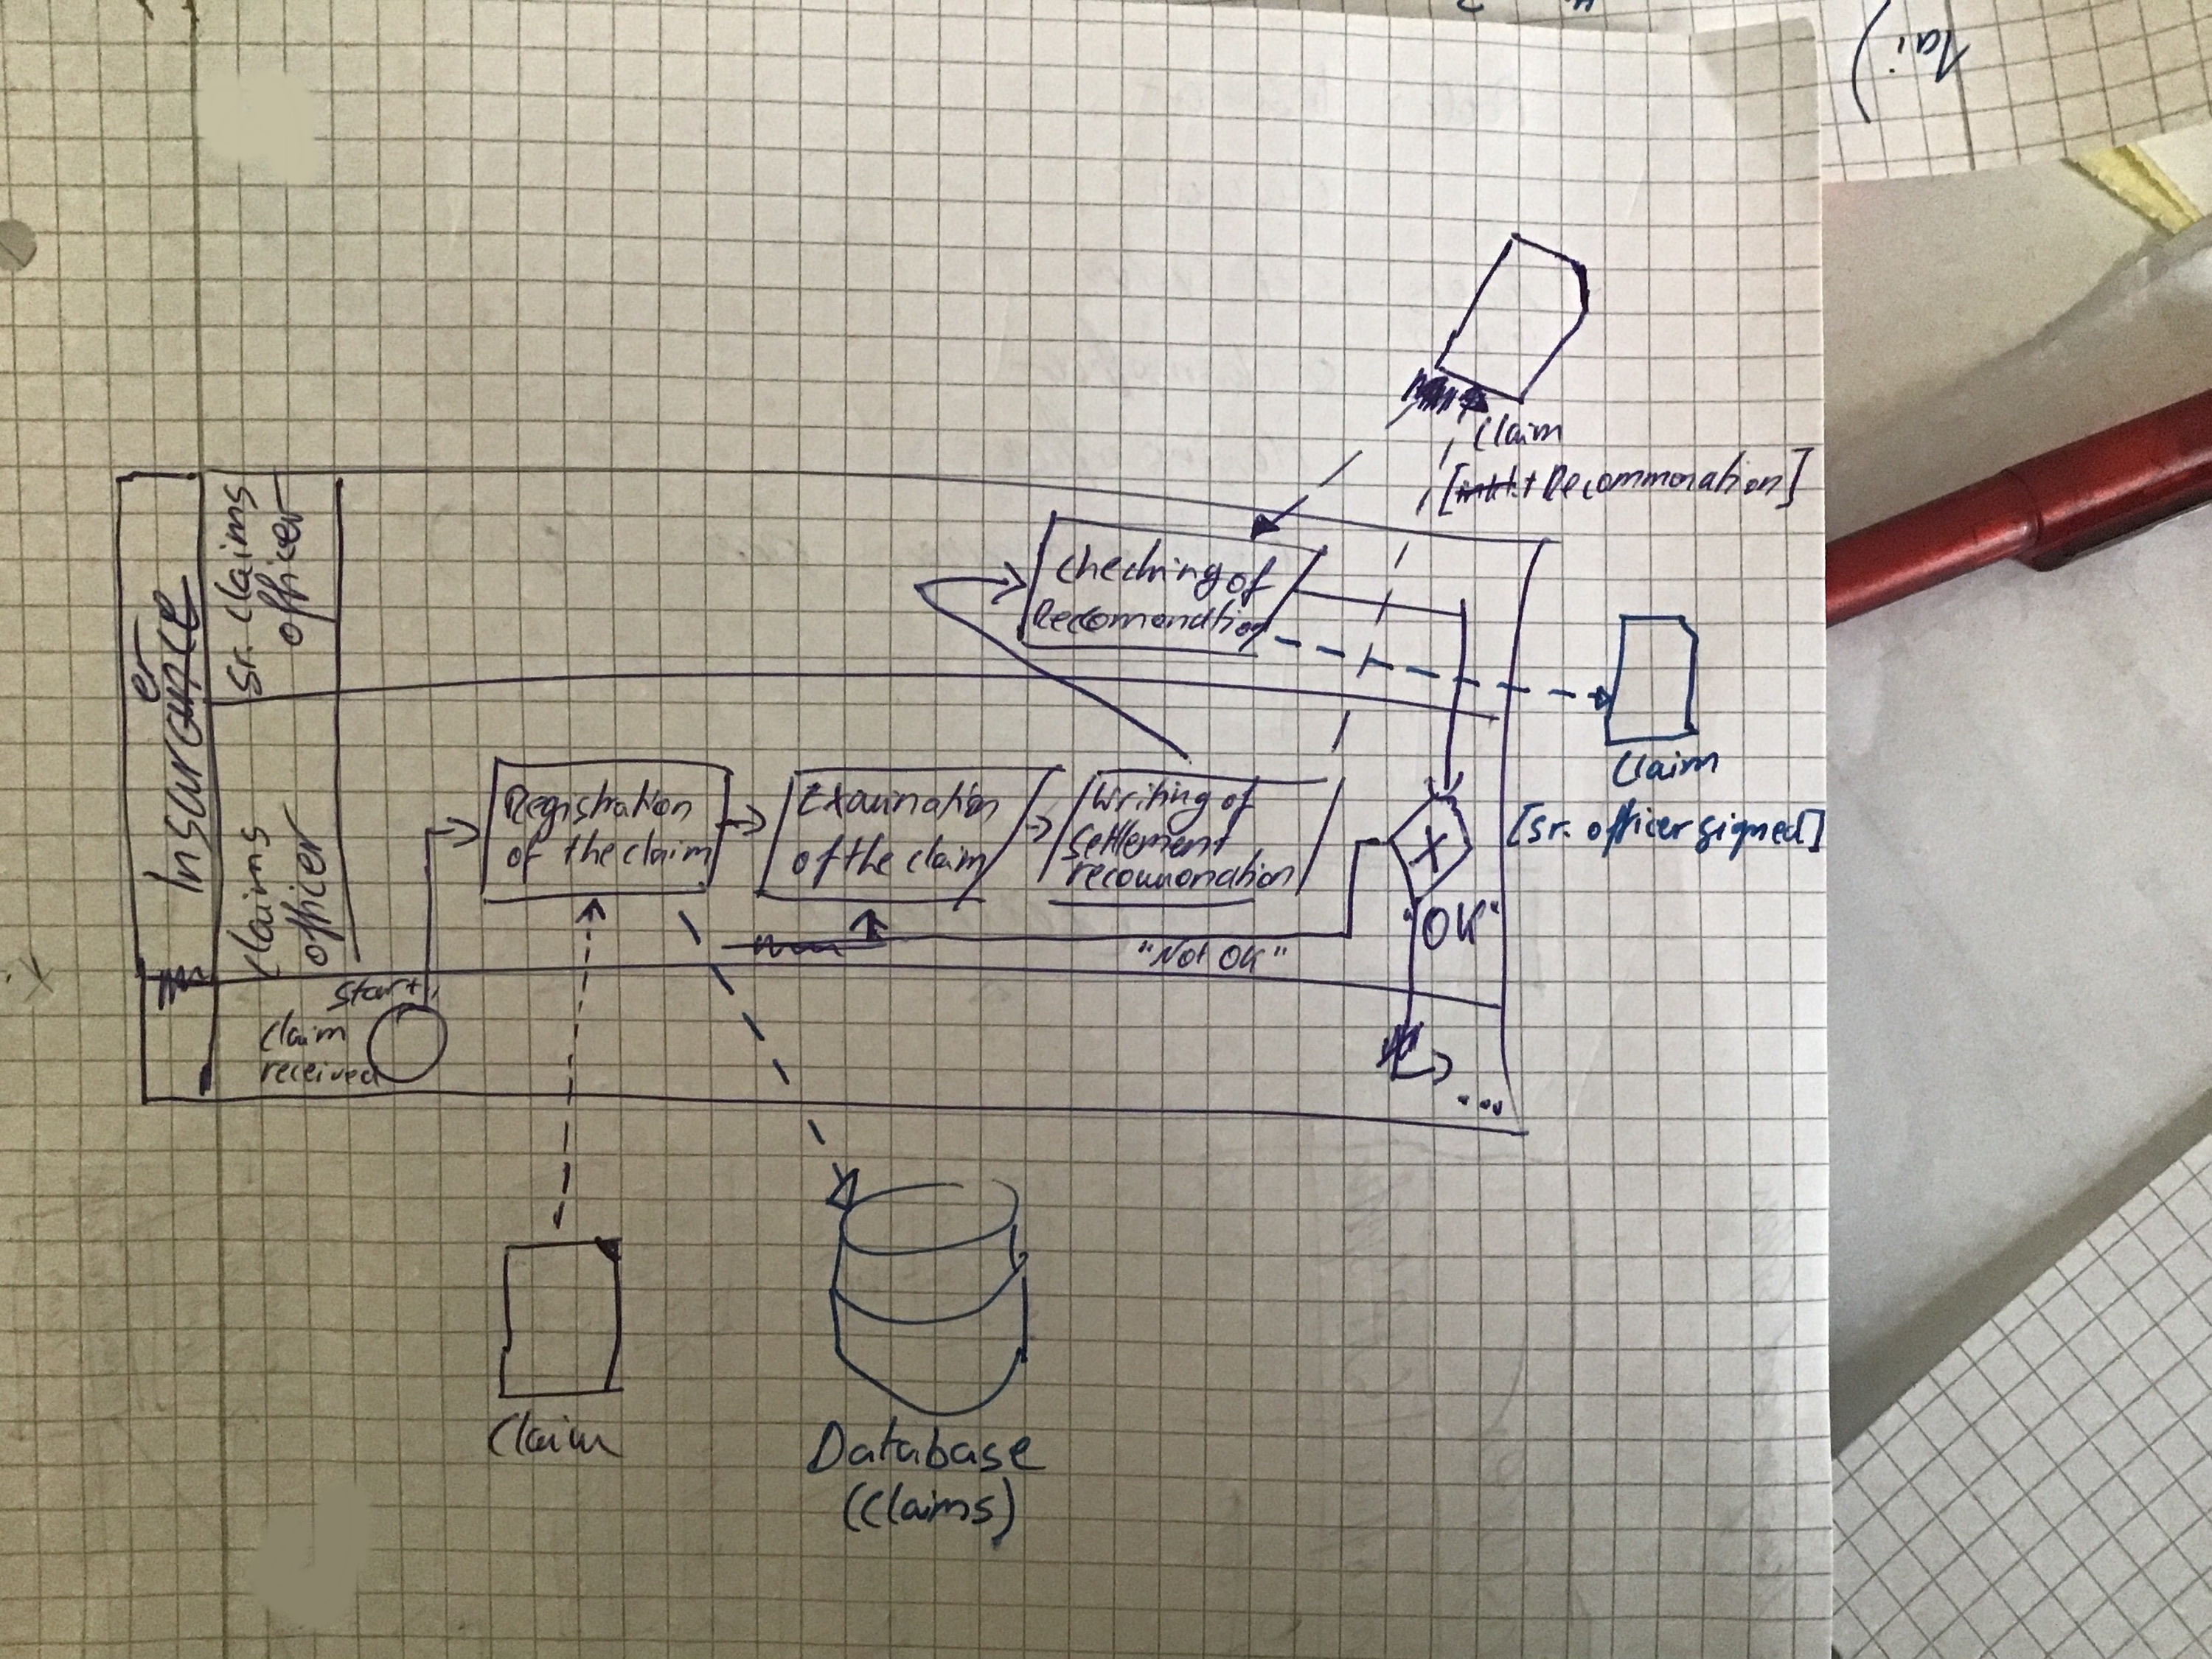(claims): (836, 1471, 1024, 1551)
Claim: (481, 1403, 632, 1464), (1608, 742, 1726, 796), (1465, 408, 1571, 457)
Database: (798, 1408, 1055, 1478)
Examination: (791, 775, 1007, 829)
Insurer: (113, 565, 219, 908)
Not: (1132, 934, 1214, 972)
OK: (1399, 892, 1507, 955), (1212, 939, 1292, 978)
Reccomendtion: (1024, 591, 1275, 643)
Registration: (496, 770, 700, 849)
Sr.: (218, 638, 270, 704)
Start: (319, 971, 428, 1016)
Writing: (1087, 772, 1217, 840)
[Recommonation]: (1433, 441, 1818, 521)
[sr.: (1501, 795, 1580, 854)
checking: (1049, 532, 1233, 606)
claim: (254, 1002, 354, 1058), (899, 829, 993, 884), (617, 824, 719, 873)
claims: (218, 817, 287, 983), (206, 474, 265, 631)
of: (784, 828, 852, 896), (1221, 549, 1284, 613), (500, 826, 550, 892), (1214, 770, 1264, 835)
officer: (247, 464, 347, 653), (273, 795, 352, 972), (1580, 791, 1700, 863)
received: (254, 1054, 385, 1093)
recommenation: (1059, 842, 1301, 899)
settlement: (1055, 816, 1240, 868)
signed]: (1688, 803, 1831, 866)
the: (838, 828, 899, 882), (557, 821, 620, 873)
